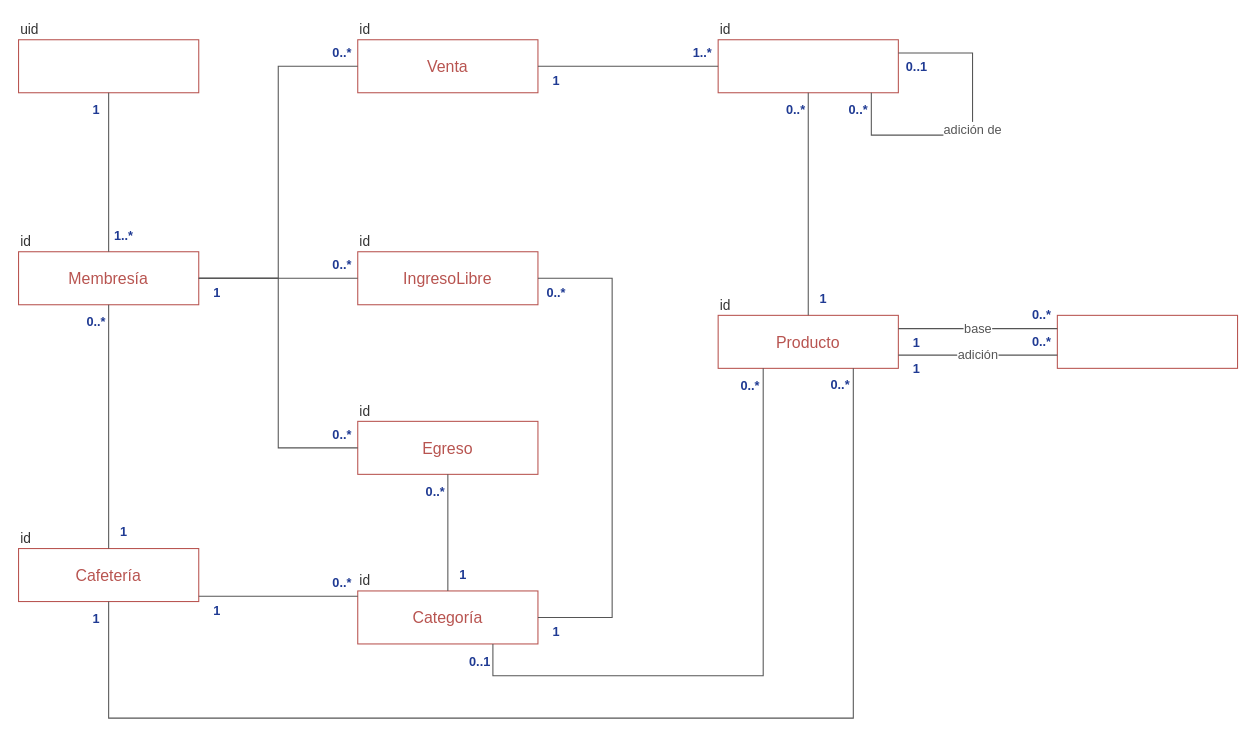
This 1256x738 diagram has some shape labels left out. Each missing label, with the box of its shape:
DetalleVenta: (717, 39, 898, 93)
Persona: (17, 39, 199, 93)
ProductoAdición: (1056, 314, 1238, 368)
